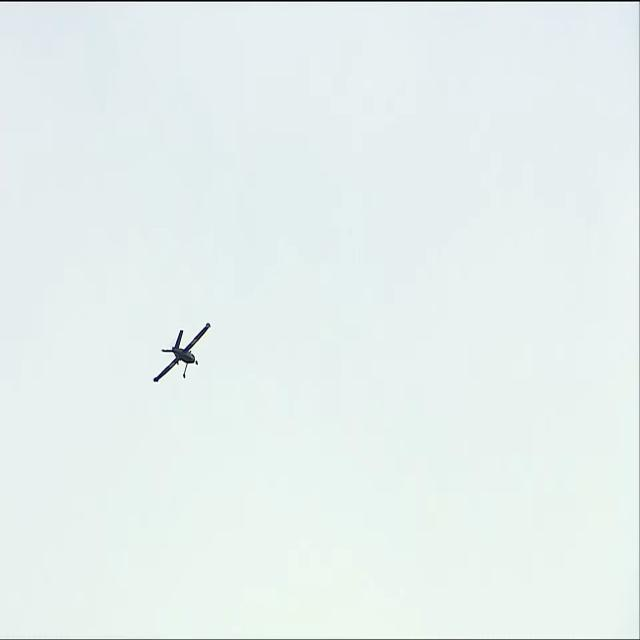iha: (151, 321, 212, 384)
